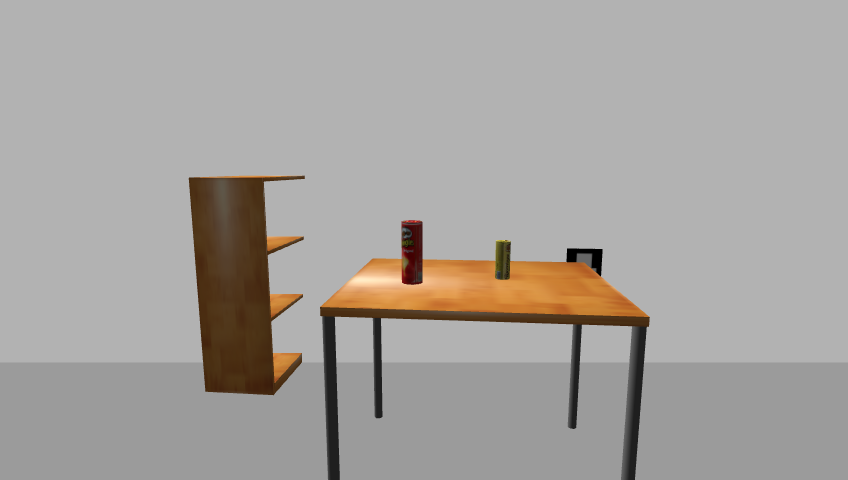aruco marker: (563, 247, 606, 280)
biscuits pack: (494, 240, 512, 282)
bookshelf: (185, 173, 311, 397)
dinner table: (315, 258, 658, 480)
pringles can: (399, 219, 424, 286)
